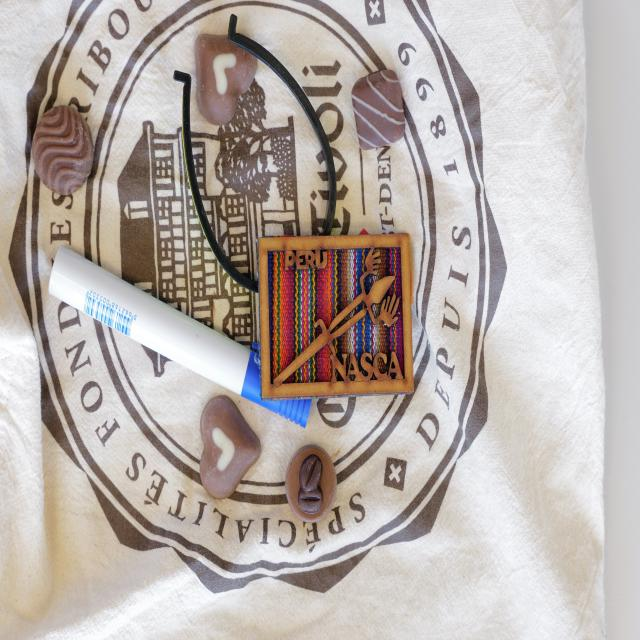Arabia: (286, 443, 338, 520)
Noir_authentique: (33, 106, 94, 192)
Passion_au_lait: (200, 394, 264, 498), (194, 30, 259, 125)
Stracciatella: (352, 67, 408, 151)
